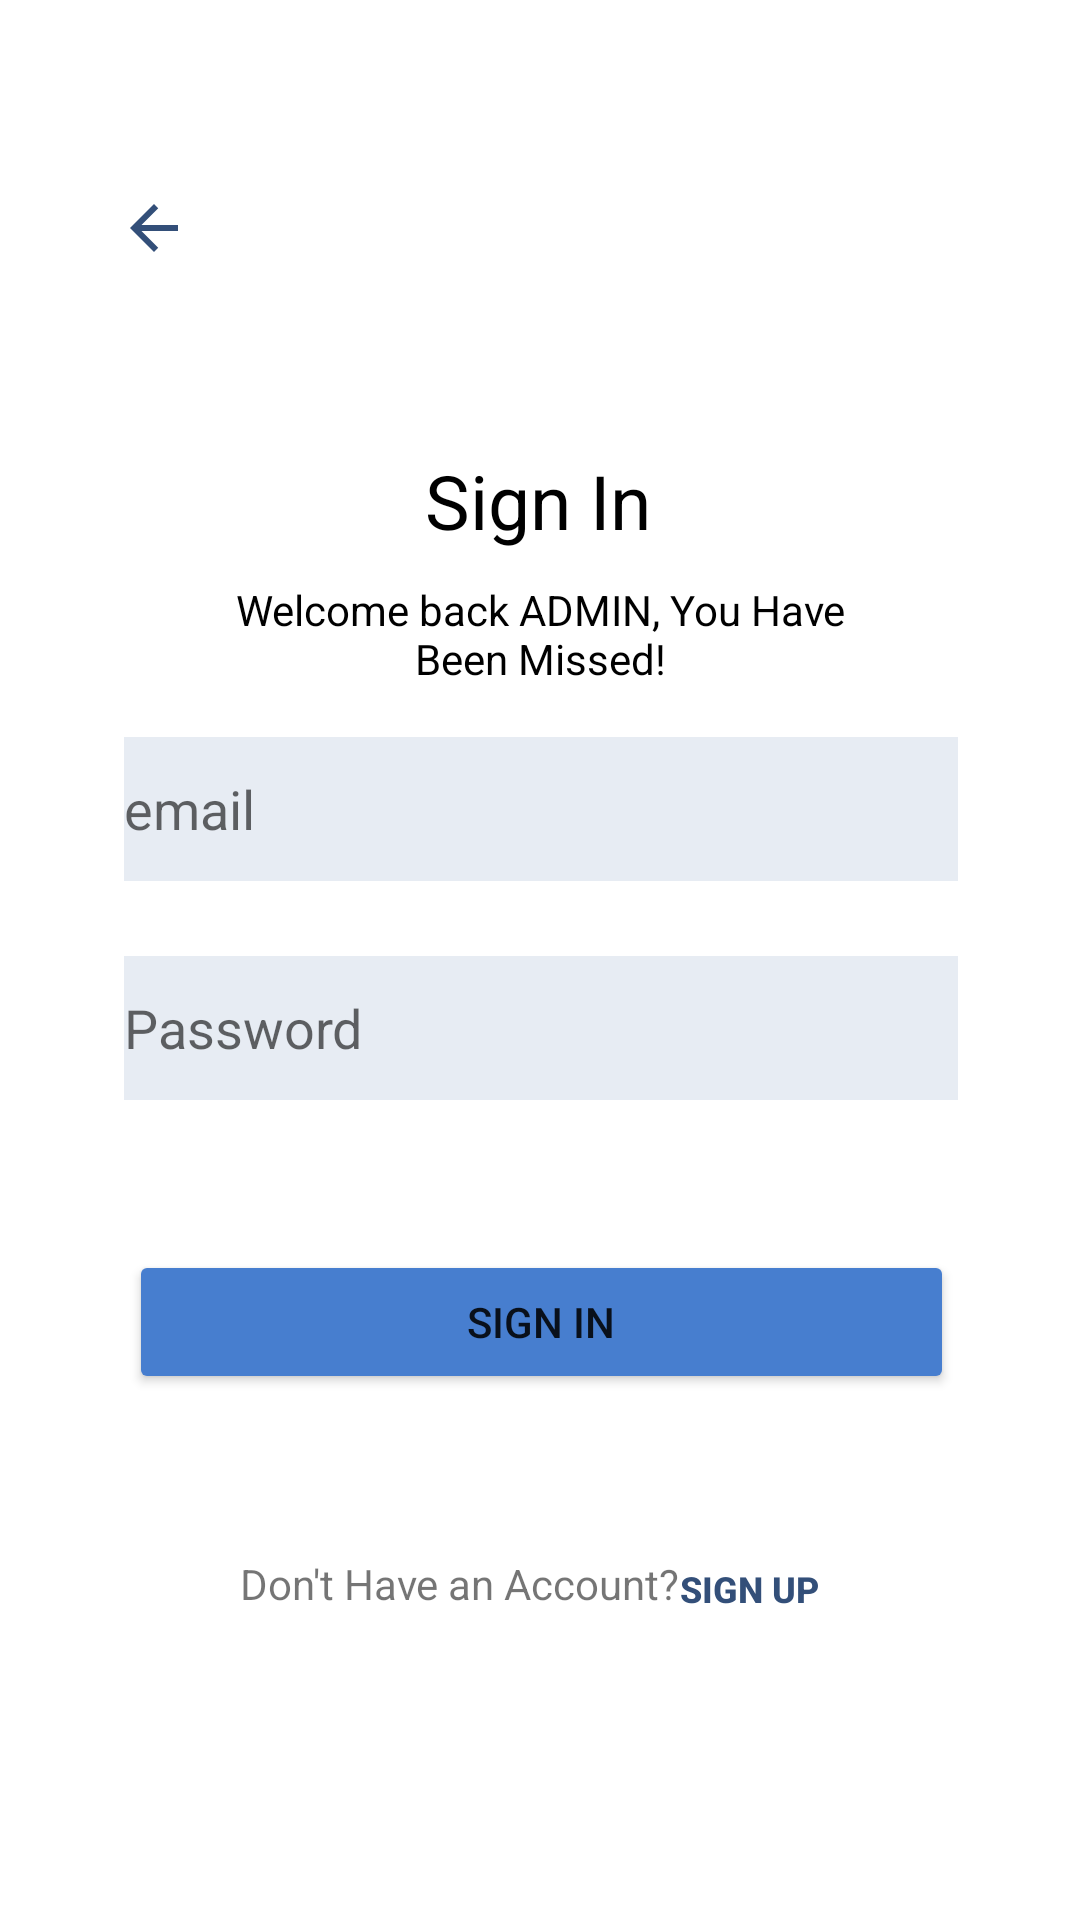

Icons on this 1080*1920 Android screen, each with the point to tap as (x=x, y=y):
back: (x=154, y=228)
